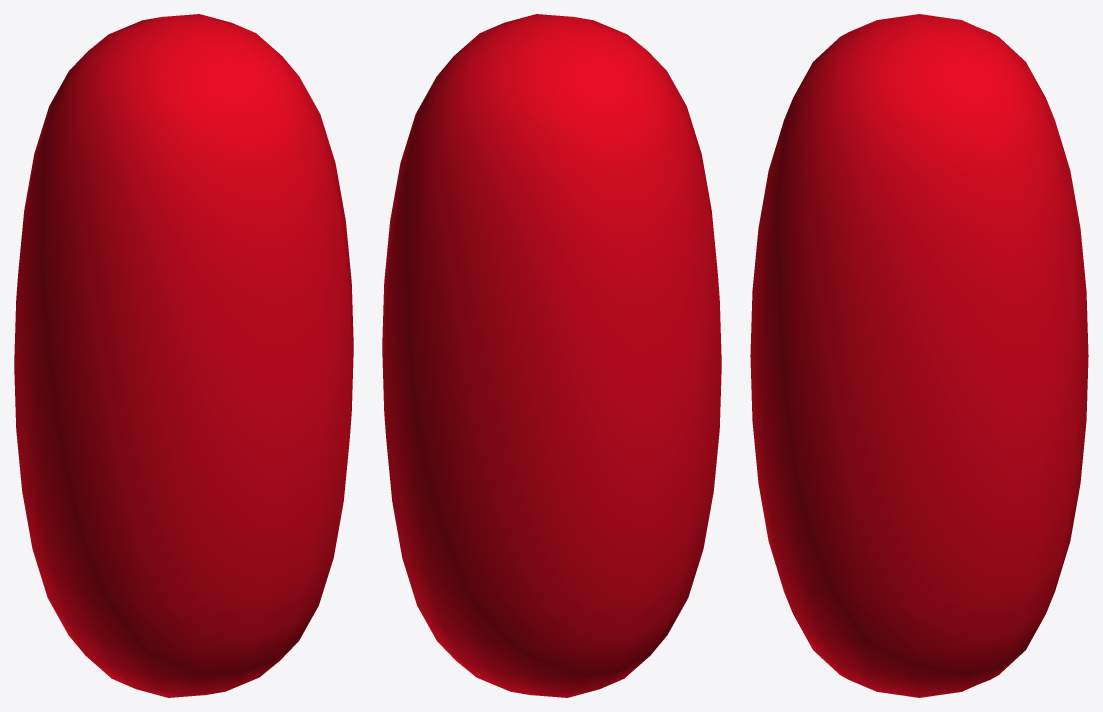
File: Laser.fbx
3 views of the same model, side by side, from view 1: azimuth 30°, elevation 25°; view 2: azimuth 150°, elevation 25°; view 3: azimuth 270°, elevation 25° (orthographic).
Visible parts, largest first — view 1: Cube; view 2: Cube; view 3: Cube.
Part boxes in pixels (bbox=[...]): Cube: bbox=[14, 14, 353, 697]; Cube: bbox=[382, 14, 721, 697]; Cube: bbox=[750, 14, 1088, 697].
Size of the model in its own units: 180 by 388 by 180.
